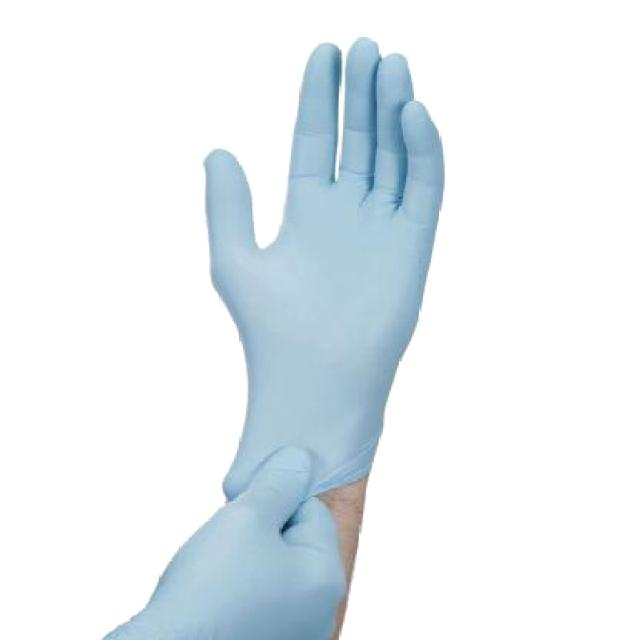glove: (191, 38, 447, 502), (93, 448, 369, 638)
